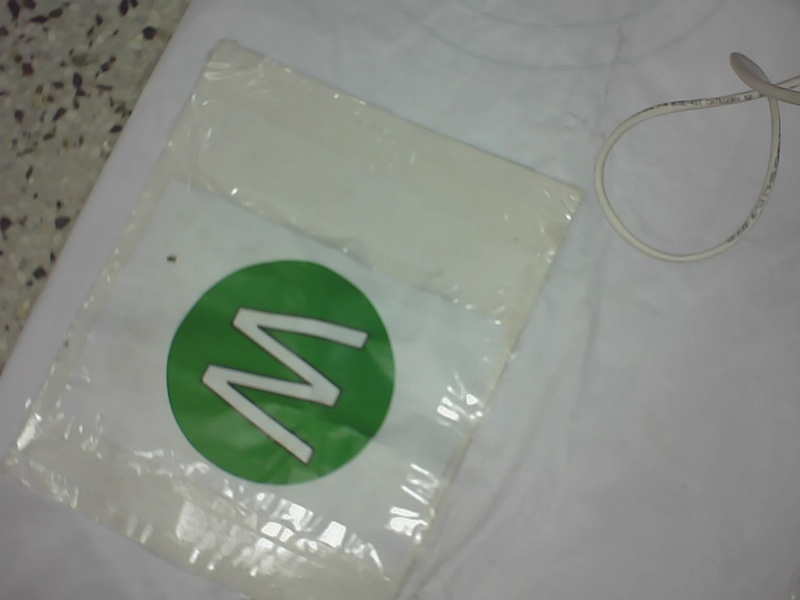areaB: (152, 251, 397, 492)
